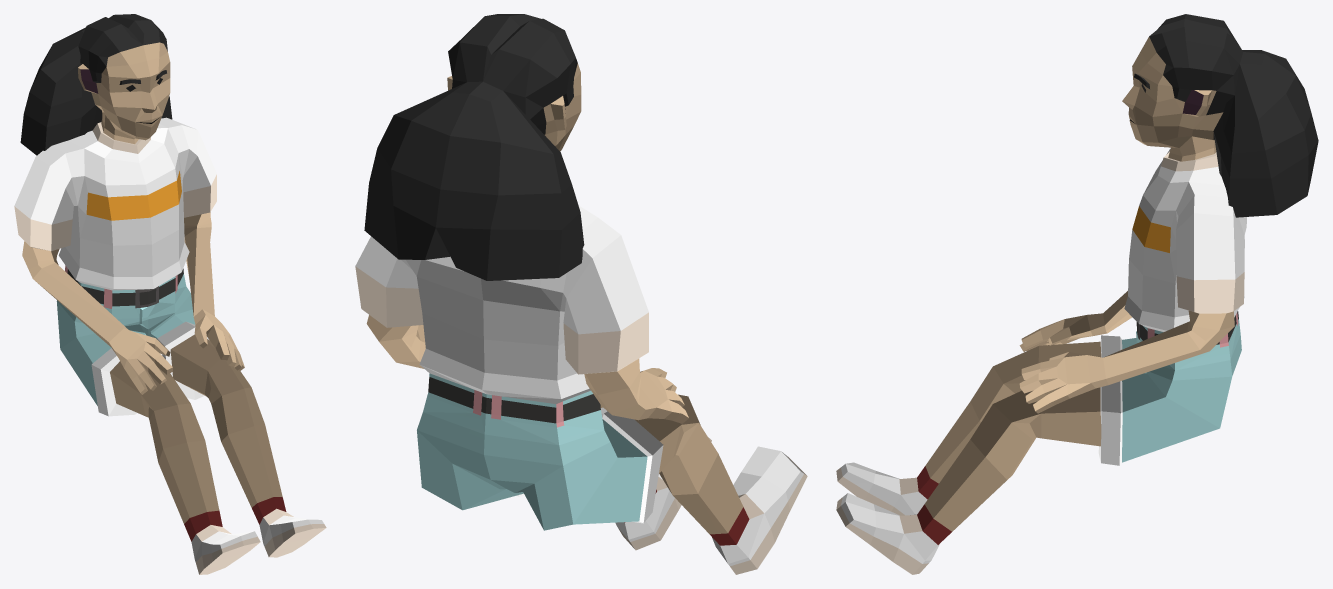
File: cpas student 1.fbx
The picture shows the model from 3 angles, left to right: view 1: azimuth 30°, elevation 25°; view 2: azimuth 150°, elevation 25°; view 3: azimuth 270°, elevation 25°; orthographic projection. The views are drawn at different scales.
Visible parts, largest first — view 1: girl-casual-shorts; view 2: girl-casual-shorts; view 3: girl-casual-shorts.
Boxes of the visible parts, x1,y1,x2,y2 form: girl-casual-shorts: (14, 14, 326, 574); girl-casual-shorts: (355, 14, 807, 574); girl-casual-shorts: (836, 14, 1318, 574).
Size of the model in its own units: 2.44 by 5.75 by 4.73.
Materials: 1 (1 with a texture image).
